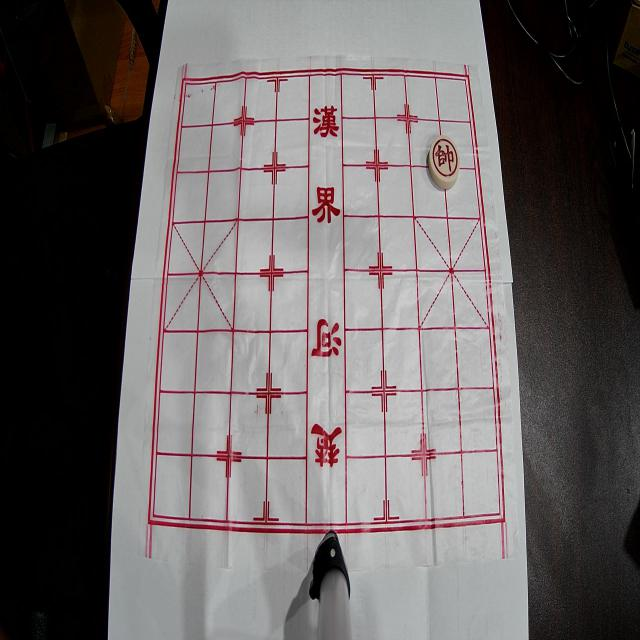red-general: (428, 135, 460, 189)
